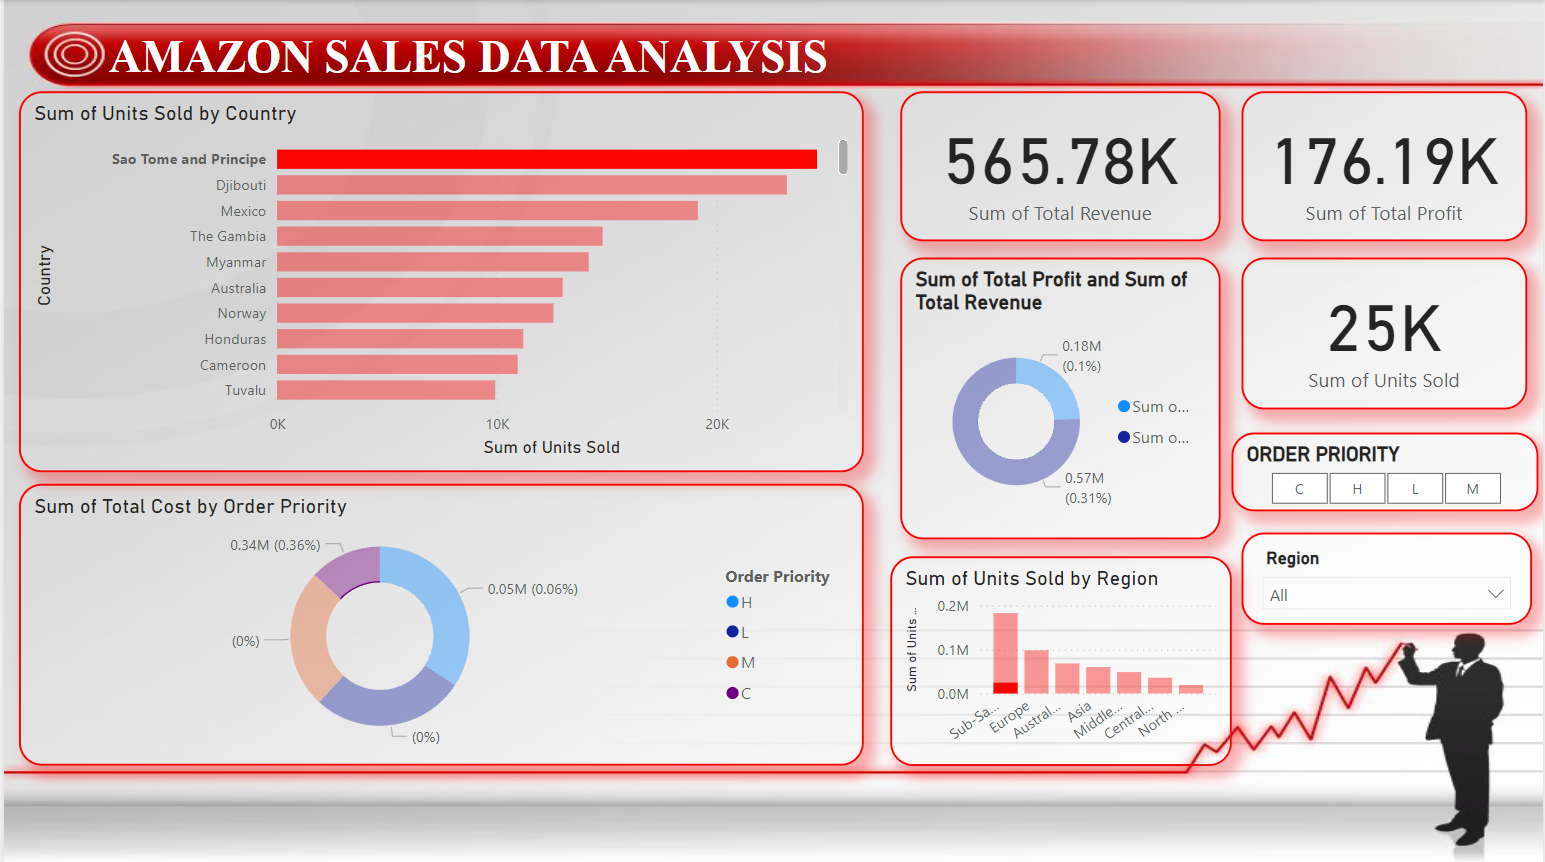

What the dashboard file says about the page in this screenshot:
{"tool":"powerbi","page":{"name":"Page 1","canvas":[1280,720],"ordinal":0},"visuals":[{"type":"card","fields":{"Values":["Sum(Amazon Sales data.Units Sold)"]},"box":[1029.2,214.1,237.4,126.2],"z":0},{"type":"card","fields":{"Values":["Sum(Amazon Sales data.Total Profit)"]},"box":[1029.2,75.5,237.4,124.9],"z":1000},{"type":"card","fields":{"Values":["Sum(Amazon Sales data.Total Revenue)"]},"box":[745.1,75.5,266.2,124.9],"z":2000},{"type":"textbox","box":[82.3,20.6,662.8,64.5],"z":3000},{"type":"donutChart","fields":{"Category":["Amazon Sales data.Order Priority"],"Y":["Sum(Amazon Sales data.Total Cost)"]},"box":[12.3,402.1,702.6,234.6],"z":5000},{"type":"donutChart","fields":{"Y":["Sum(Amazon Sales data.Total Profit)","Sum(Amazon Sales data.Total Revenue)"]},"box":[745.1,214.1,266.2,234.6],"z":6000},{"type":"slicer","title":"ORDER PRIORITY","fields":{"Values":["Amazon Sales data.Order Priority"]},"box":[1020.9,359.5,255.2,65.9],"z":7000},{"type":"clusteredBarChart","fields":{"Category":["Amazon Sales data.Country"],"Y":["Sum(Amazon Sales data.Units Sold)"]},"box":[12.3,75.5,702.6,317],"z":7001},{"type":"clusteredColumnChart","fields":{"Y":["Sum(Amazon Sales data.Units Sold)"],"Category":["Amazon Sales data.Region"]},"box":[736.9,462.4,284,174.3],"z":7002},{"type":"slicer","fields":{"Values":["Amazon Sales data.Region"]},"box":[1029.2,443.2,241.5,76.8],"z":7003}]}

Visuals, with their boxes in screenshot pixels (x1, y1, x2, y2), scaled from the page's 1280x720 canvas onto the 1545x862 screenshot:
card - Sum(Amazon Sales data.Units Sold): box(1242, 256, 1529, 407)
card - Sum(Amazon Sales data.Total Profit): box(1242, 90, 1529, 240)
card - Sum(Amazon Sales data.Total Revenue): box(899, 90, 1221, 240)
textbox: box(99, 25, 899, 102)
donutChart - Amazon Sales data.Order Priority x Sum(Amazon Sales data.Total Cost): box(15, 481, 863, 762)
donutChart - Sum(Amazon Sales data.Total Profit) x Sum(Amazon Sales data.Total Revenue): box(899, 256, 1221, 537)
"ORDER PRIORITY" slicer: box(1232, 430, 1540, 509)
clusteredBarChart - Amazon Sales data.Country x Sum(Amazon Sales data.Units Sold): box(15, 90, 863, 470)
clusteredColumnChart - Sum(Amazon Sales data.Units Sold) x Amazon Sales data.Region: box(889, 554, 1232, 762)
slicer - Amazon Sales data.Region: box(1242, 531, 1534, 623)
